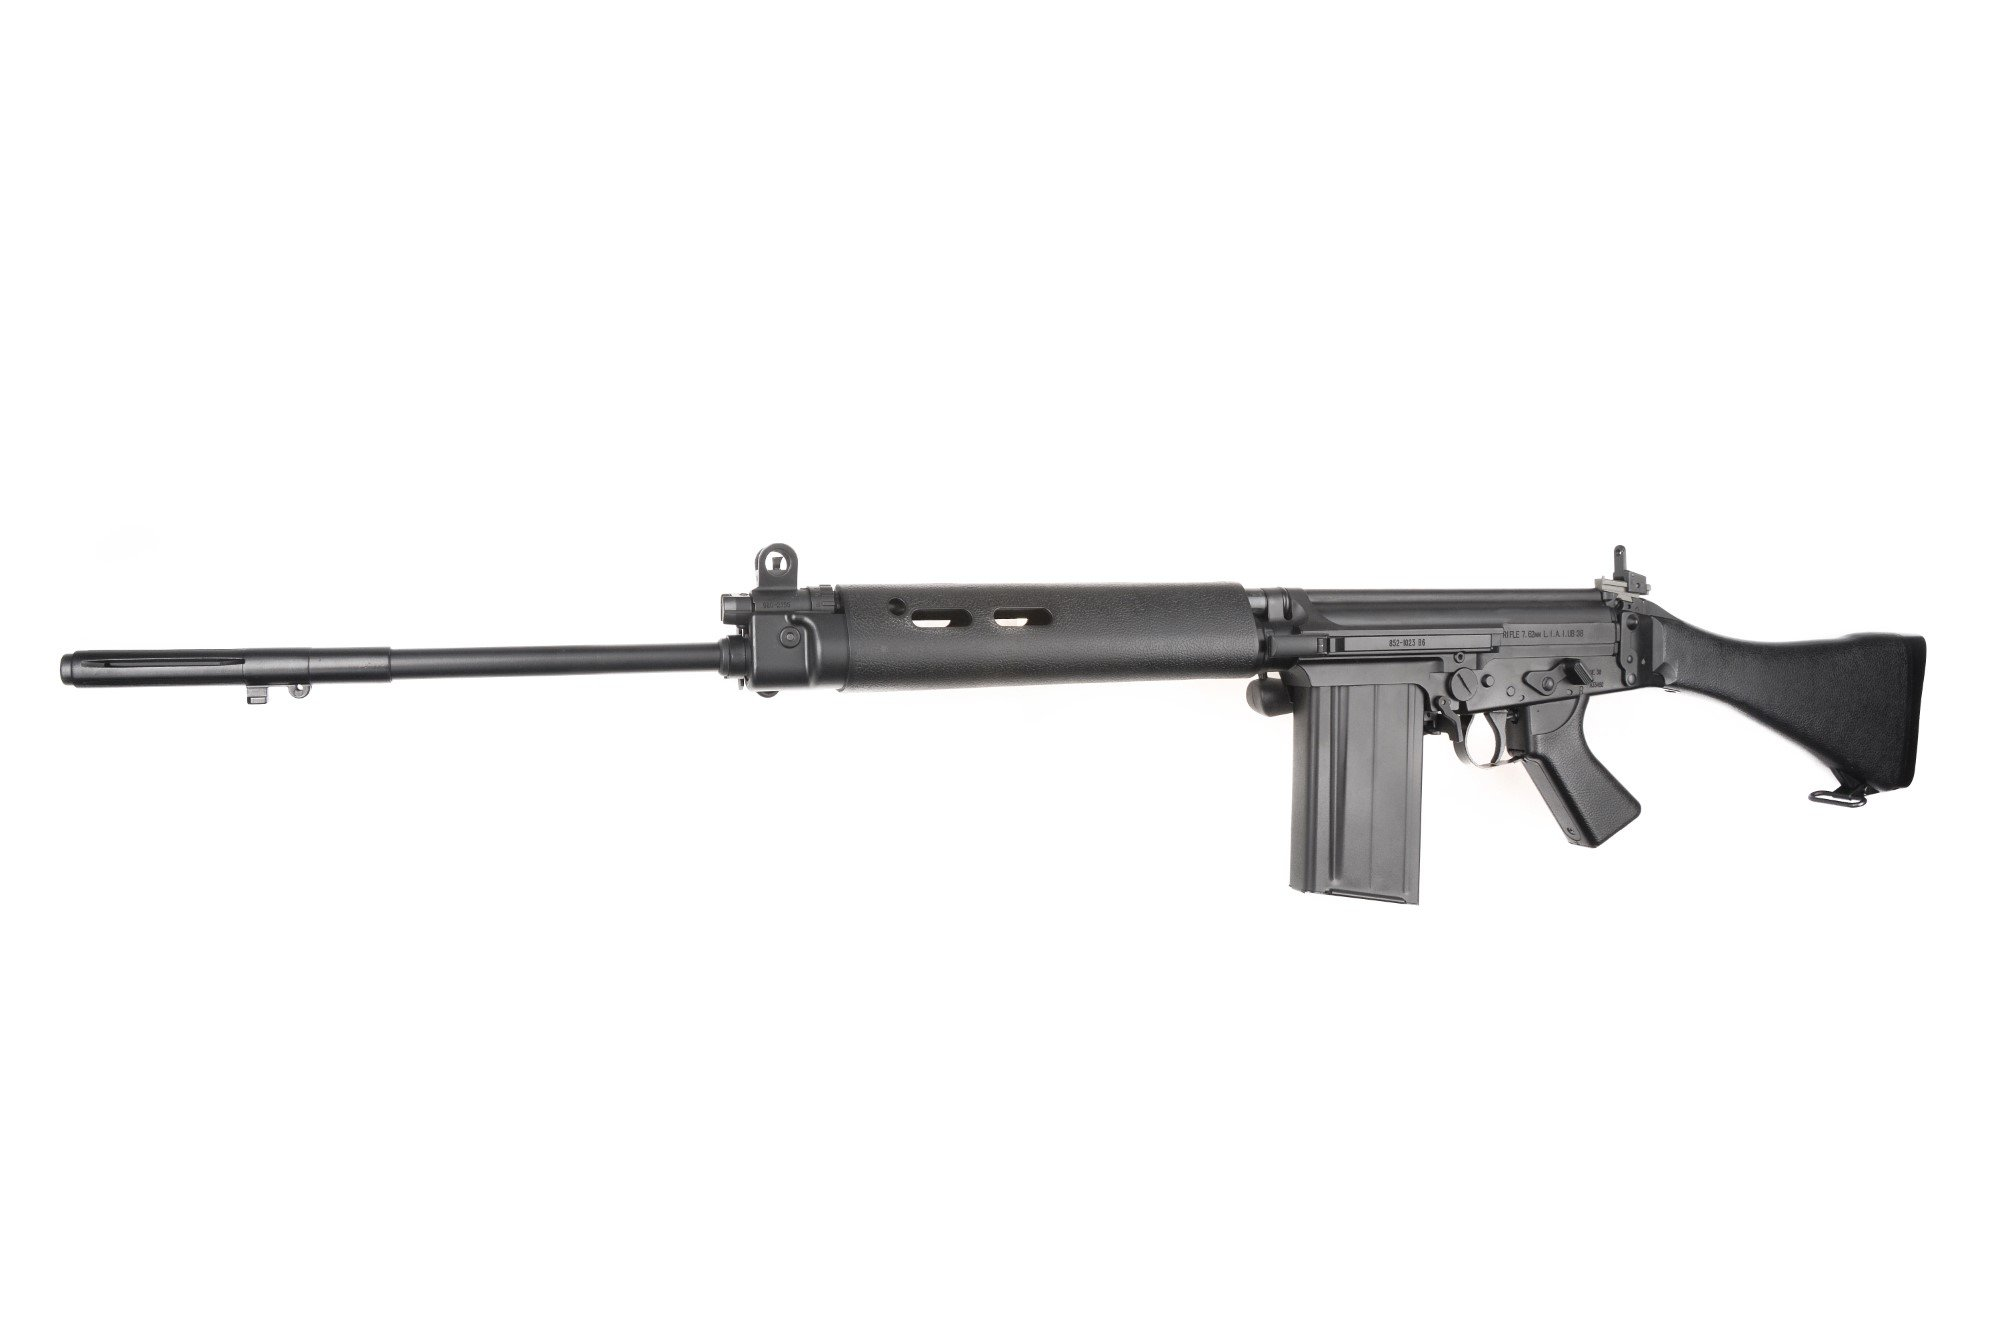Arma Real: (62, 542, 1935, 894)
